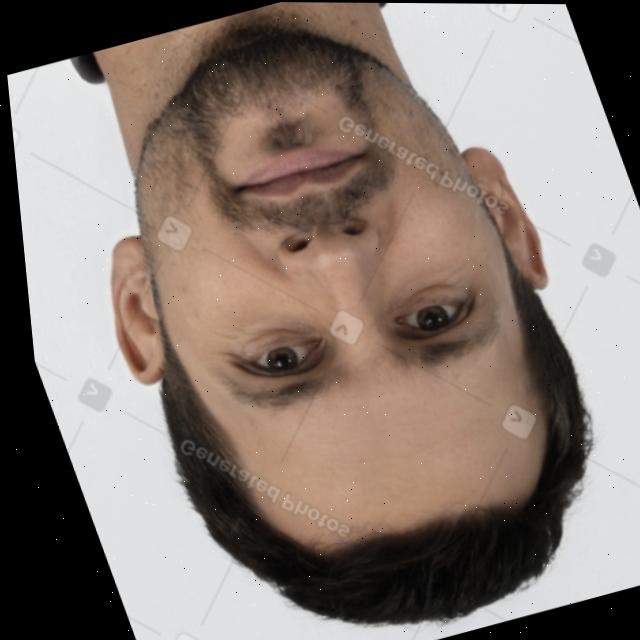natural: (2, 0, 640, 640)
